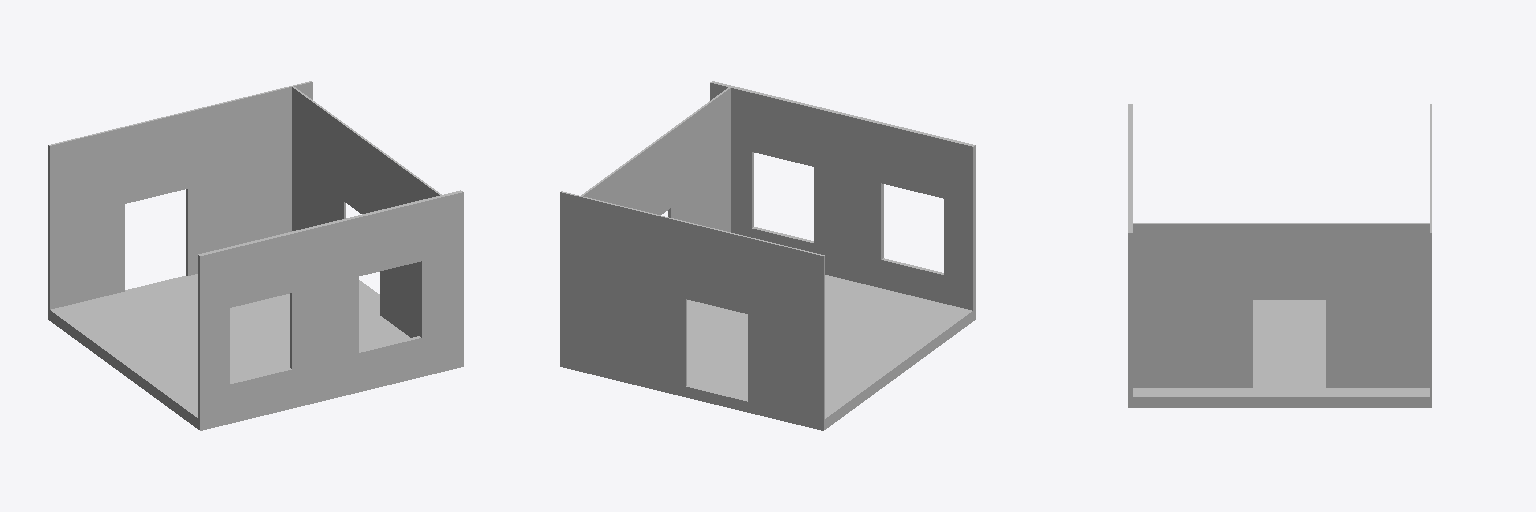
The model's file is 4x2 third (des)-5.obj.
3 views of the same model, side by side, from view 1: azimuth 30°, elevation 25°; view 2: azimuth 150°, elevation 25°; view 3: azimuth 270°, elevation 25° (orthographic).
Visible parts, largest first — view 1: 4x2 third (des)-5; view 2: 4x2 third (des)-5; view 3: 4x2 third (des)-5.
Boxes of the visible parts, x1,y1,x2,y2 form: 4x2 third (des)-5: [48, 81, 463, 430]; 4x2 third (des)-5: [560, 81, 975, 430]; 4x2 third (des)-5: [1128, 104, 1431, 407].
Size of the model in its own units: 126 by 80 by 126.